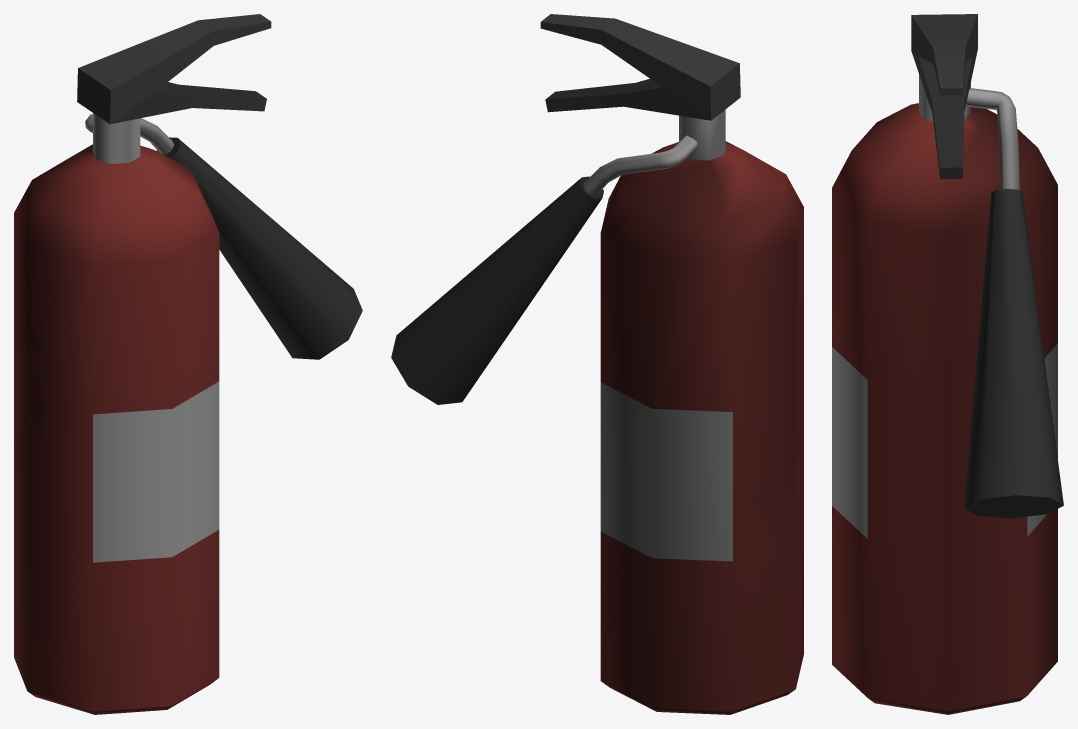
The model's file is human-household-items-fire-extinguisher_v1.fbx.
3 views of the same model, side by side, from view 1: azimuth 30°, elevation 25°; view 2: azimuth 150°, elevation 25°; view 3: azimuth 270°, elevation 25° (orthographic). The views are drawn at different scales.
Visible parts, largest first — view 1: Fire Extinguisher; view 2: Fire Extinguisher; view 3: Fire Extinguisher.
Boxes of the visible parts, x1,y1,x2,y2 form: Fire Extinguisher: [14, 14, 362, 714]; Fire Extinguisher: [391, 14, 803, 714]; Fire Extinguisher: [832, 14, 1063, 714].
Size of the model in its own units: 0.3625 by 0.6 by 0.1879.
